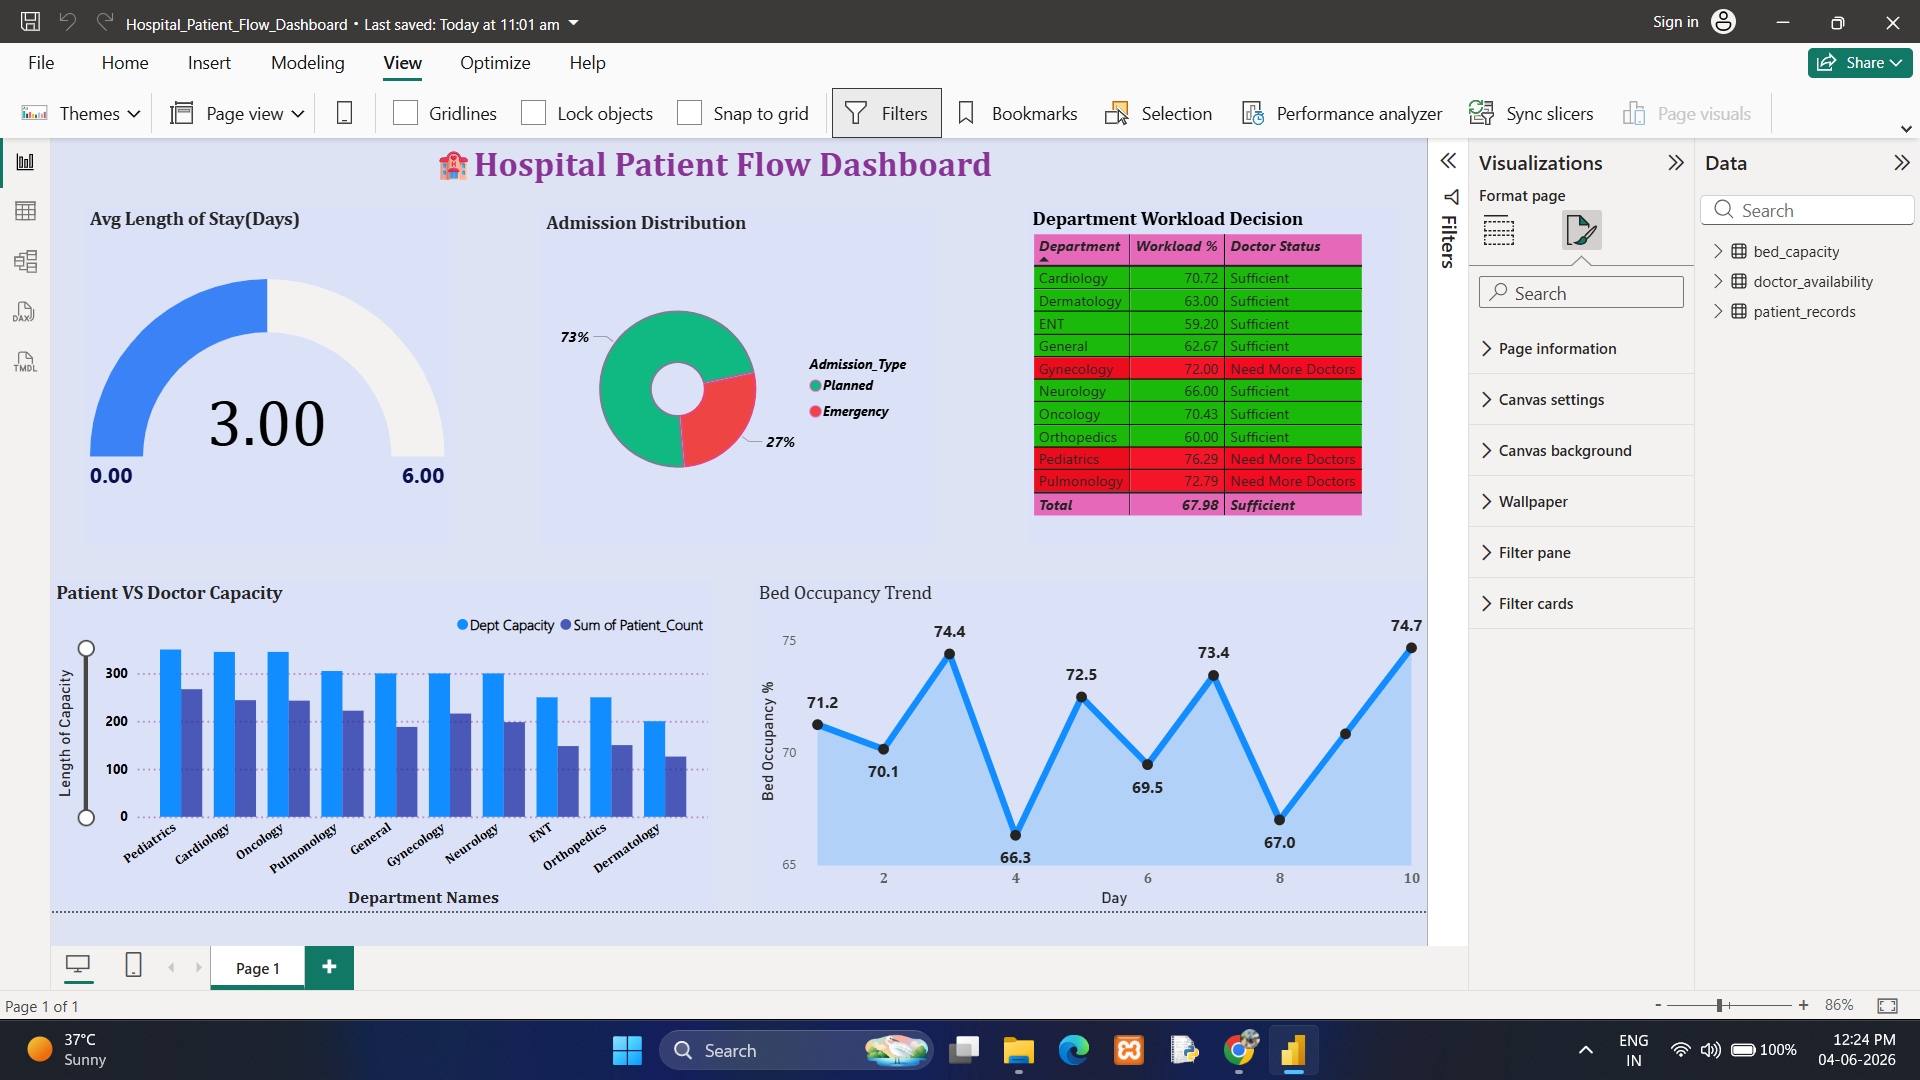

Layout of this report page (visuals, bound fields, positions):
{"tool":"powerbi","page":{"name":"Page 1","canvas":[1280,720],"ordinal":0},"visuals":[{"type":"textbox","box":[335.1,0,562.5,47.7],"z":0},{"type":"lineChart","title":"Bed Occupancy Trend","fields":{"Y":["bed_capacity.Bed Occupancy %"],"Category":["bed_capacity.Last_Updated.Variation.Date Hierarchy.Day"]},"box":[653,412.1,627.3,308.2],"z":1000},{"type":"gauge","title":"Avg Length of Stay(Days)","fields":{"Y":["patient_records.ALOS"]},"box":[31.8,63.6,339.9,315.5],"z":2000},{"type":"donutChart","title":"Admission Distribution","fields":{"Category":["patient_records.Admission_Type"],"Y":["patient_records.Total Patients"]},"box":[456.1,67.3,366.8,311.8],"z":3000},{"type":"clusteredColumnChart","title":"Patient VS Doctor Capacity","fields":{"Category":["doctor_availability.Department"],"Y":["doctor_availability.Dept Capacity","Sum(doctor_availability.Patient_Count)"]},"box":[0,412.1,616.3,308.2],"z":4000},{"type":"tableEx","title":"Department Workload Decision","fields":{"Values":["doctor_availability.Department","doctor_availability.Workload %","doctor_availability.Doctor Status"]},"box":[908.6,63.6,344.8,315.5],"z":6000}]}

Visuals, with their boxes on the page's 1280x720 design canvas (x1, y1, x2, y2). These are canvas units, not pixel positions in the 1920x1080 screenshot, which may show the page scaled, cropped or inside an application window:
textbox: 335 0 898 48
"Bed Occupancy Trend" lineChart: 653 412 1280 720
"Avg Length of Stay(Days)" gauge: 32 64 372 379
"Admission Distribution" donutChart: 456 67 823 379
"Patient VS Doctor Capacity" clusteredColumnChart: 0 412 616 720
"Department Workload Decision" tableEx: 909 64 1253 379
